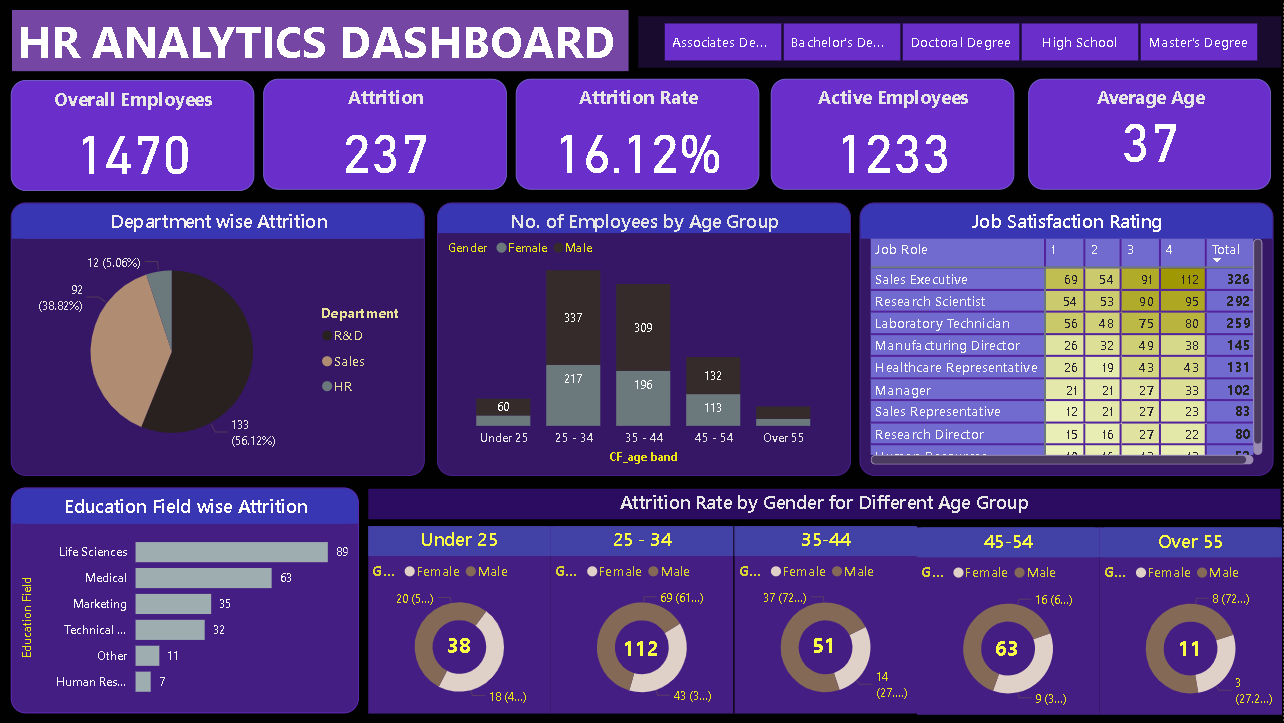

Layout of this report page (visuals, bound fields, positions):
{"tool":"powerbi","page":{"name":"Page 1","canvas":[1280,720],"ordinal":0},"visuals":[{"type":"card","title":"Overall Employees","fields":{"Values":["Sum(HR data.Employee Count)"]},"box":[13.3,80,242,110],"z":0},{"type":"card","title":"Attrition","fields":{"Values":["Sum(HR data.Attrition Count)"]},"box":[265,78.3,242,110],"z":1000},{"type":"card","title":"Attrition Rate","fields":{"Values":["HR data.Attrition_Count"]},"box":[516.7,78.3,242,110],"z":2000},{"type":"card","title":"Active Employees","fields":{"Values":["HR data.Active_Employees"]},"box":[770,78.3,242,110],"z":3000},{"type":"card","title":"Average Age ","fields":{"Values":["Avg(HR data.Age)"]},"box":[1026.7,78.3,241.7,110],"z":4000},{"type":"pieChart","title":"Department wise Attrition","fields":{"Category":["HR data.Department"],"Y":["Sum(HR data.Attrition Count)"]},"box":[13.3,201.7,412,271.7],"z":5000},{"type":"columnChart","title":"No. of Employees by Age Group","fields":{"Category":["HR data.CF_age band"],"Y":["Sum(HR data.Employee Count)"],"Series":["HR data.Gender"]},"box":[438.3,201.7,412,271.7],"z":6000},{"type":"pivotTable","title":"Job Satisfaction Rating","fields":{"Rows":["HR data.Job Role"],"Columns":["HR data.Job Satisfaction"],"Values":["Sum(HR data.Employee Count)"]},"box":[858.3,201.7,412,271.7],"z":7000},{"type":"barChart","title":"Education Field wise Attrition","fields":{"Category":["HR data.Education Field"],"Y":["Sum(HR data.Attrition Count)"]},"box":[13.3,485,346.7,225],"z":8000},{"type":"donutChart","title":"Under 25","fields":{"Category":["HR data.Gender"],"Y":["Sum(HR data.Attrition Count)"],"Series":["HR data.CF_age band"]},"box":[370,523.3,181.7,186],"z":9000},{"type":"textbox","title":"Attrition Rate by Gender for Different Age Group ","box":[369.5,486.4,900.6,29.9],"z":10000},{"type":"donutChart","title":"25 - 34","fields":{"Category":["HR data.Gender"],"Y":["Sum(HR data.Attrition Count)"],"Series":["HR data.CF_age band"]},"box":[551.7,523.3,181.7,186.7],"z":11000},{"type":"donutChart","title":"35-44","fields":{"Category":["HR data.Gender"],"Y":["Sum(HR data.Attrition Count)"],"Series":["HR data.CF_age band"]},"box":[733.3,523.3,181.7,186.7],"z":12000},{"type":"donutChart","title":"45-54","fields":{"Category":["HR data.Gender"],"Y":["Sum(HR data.Attrition Count)"],"Series":["HR data.CF_age band"]},"box":[915,525,181.7,186.7],"z":13000},{"type":"donutChart","title":"Over 55","fields":{"Category":["HR data.Gender"],"Y":["Sum(HR data.Attrition Count)"],"Series":["HR data.CF_age band"]},"box":[1096.7,525,181.7,186.7],"z":14000},{"type":"card","fields":{"Values":["Sum(HR data.Attrition Count)"]},"box":[443.3,630,35,28.3],"z":15000},{"type":"card","fields":{"Values":["Sum(HR data.Attrition Count)"]},"box":[615,628.3,53.3,36.7],"z":16000},{"type":"card","fields":{"Values":["Sum(HR data.Attrition Count)"]},"box":[796.7,613.3,55,60],"z":17000},{"type":"card","fields":{"Values":["Sum(HR data.Attrition Count)"]},"box":[983.3,616.7,45,58.3],"z":18000},{"type":"card","fields":{"Values":["Sum(HR data.Attrition Count)"]},"box":[1161.7,626.7,51.7,38.3],"z":19000},{"type":"textbox","title":"HR ANALYTICS DASHBOARD","box":[15,10,613.3,61],"z":20000},{"type":"slicer","fields":{"Values":["HR data.Education"]},"box":[638.3,16.7,640,51],"z":21000}]}

Visuals, with their boxes in screenshot pixels (x1, y1, x2, y2), scaled from the page's 1280x720 canvas onto the 1284x723 screenshot:
"Overall Employees" card: 13 80 256 191
"Attrition" card: 266 79 509 189
"Attrition Rate" card: 518 79 761 189
"Active Employees" card: 772 79 1015 189
"Average Age " card: 1030 79 1272 189
"Department wise Attrition" pieChart: 13 203 427 475
"No. of Employees by Age Group" columnChart: 440 203 853 475
"Job Satisfaction Rating" pivotTable: 861 203 1274 475
"Education Field wise Attrition" barChart: 13 487 361 713
"Under 25" donutChart: 371 525 553 712
"Attrition Rate by Gender for Different Age Group " textbox: 371 488 1274 518
"25 - 34" donutChart: 553 525 736 713
"35-44" donutChart: 736 525 918 713
"45-54" donutChart: 918 527 1100 715
"Over 55" donutChart: 1100 527 1282 715
card - Sum(HR data.Attrition Count): 445 633 480 661
card - Sum(HR data.Attrition Count): 617 631 670 668
card - Sum(HR data.Attrition Count): 799 616 854 676
card - Sum(HR data.Attrition Count): 986 619 1032 678
card - Sum(HR data.Attrition Count): 1165 629 1217 668
"HR ANALYTICS DASHBOARD" textbox: 15 10 630 71
slicer - HR data.Education: 640 17 1282 68
